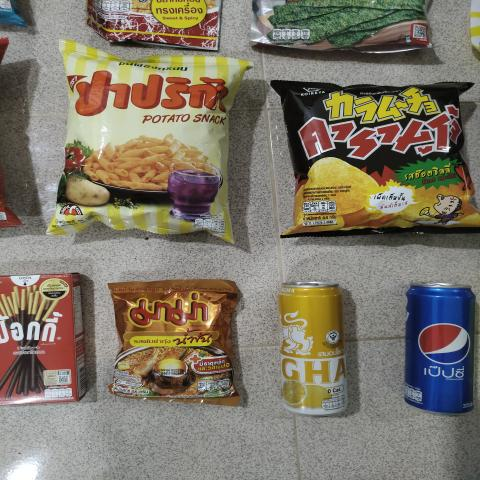karamujo: (293, 80, 467, 234)
mama: (108, 285, 235, 399)
paprika: (63, 54, 235, 237)
pepsi_blue: (396, 277, 478, 409)
pokki: (0, 275, 76, 409)
singha_yellow: (273, 278, 358, 421)
